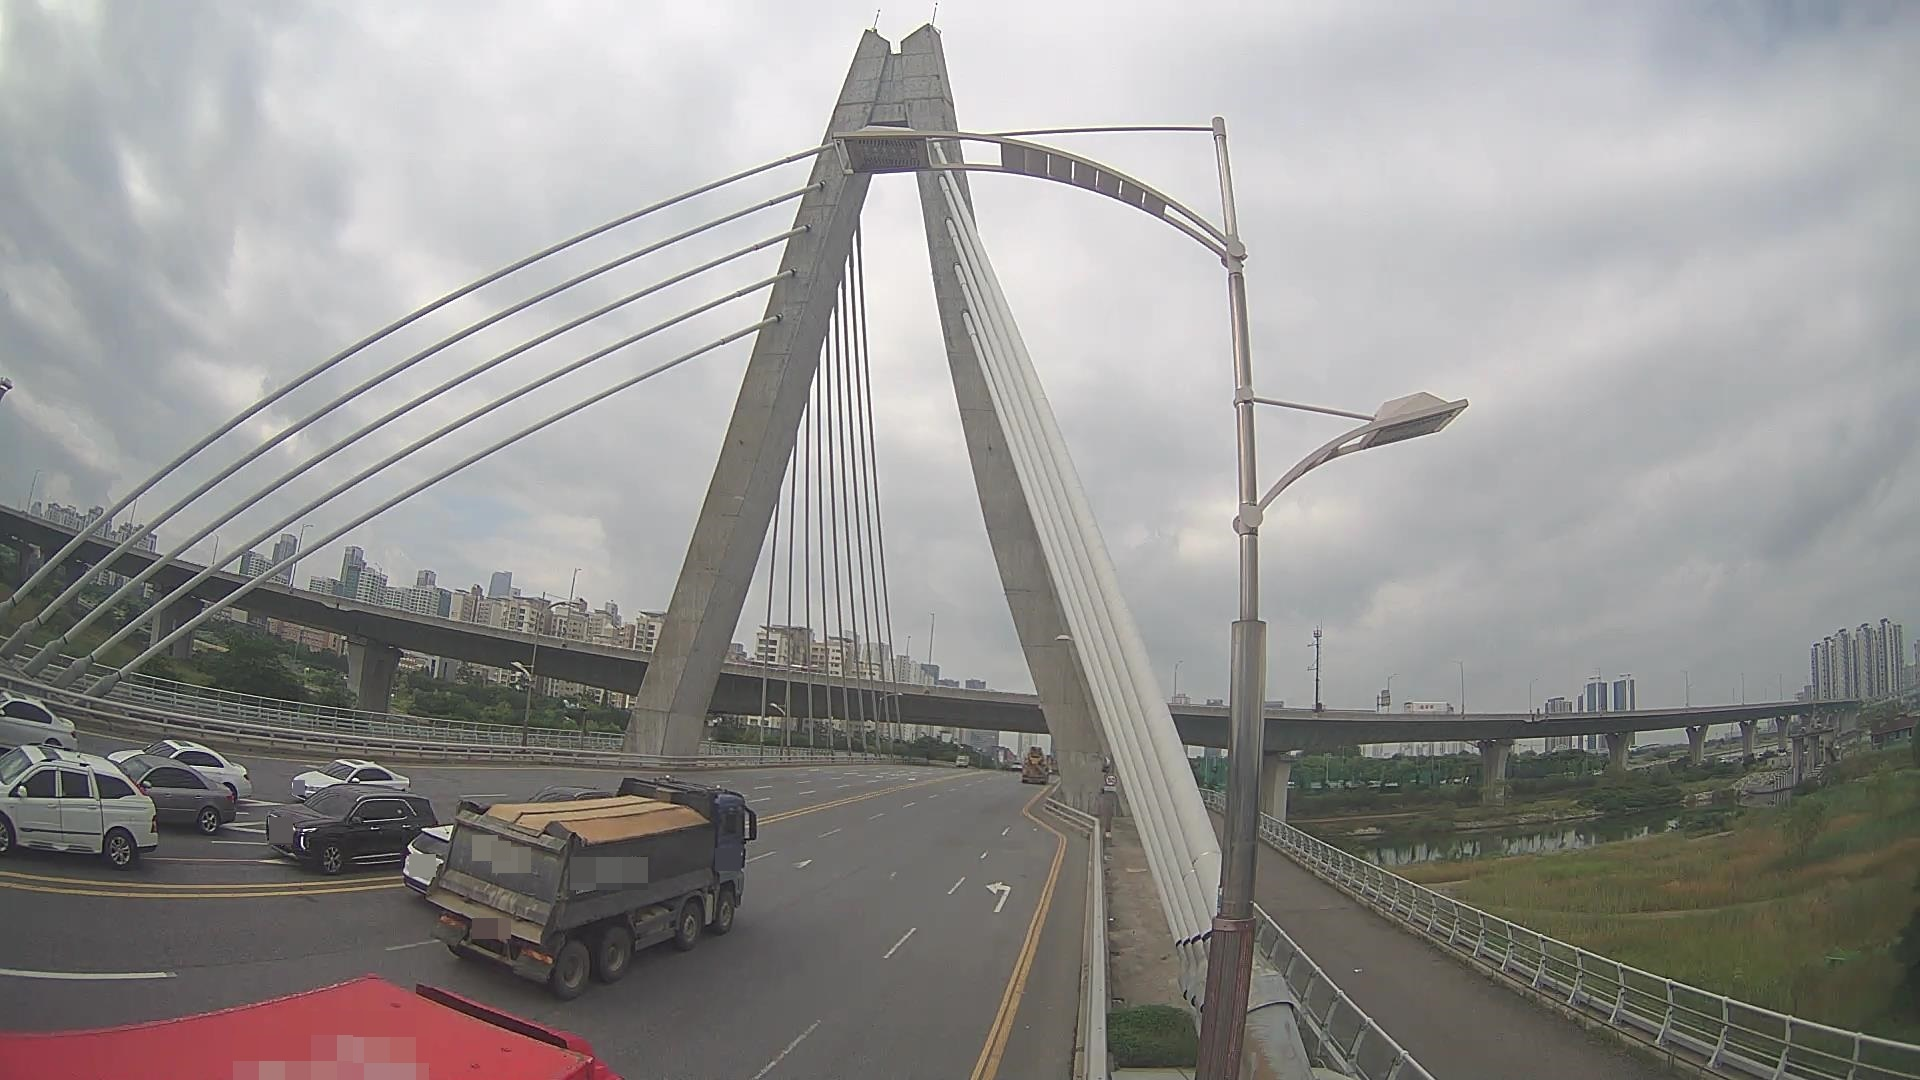정상차량: (425, 774, 757, 1001)
